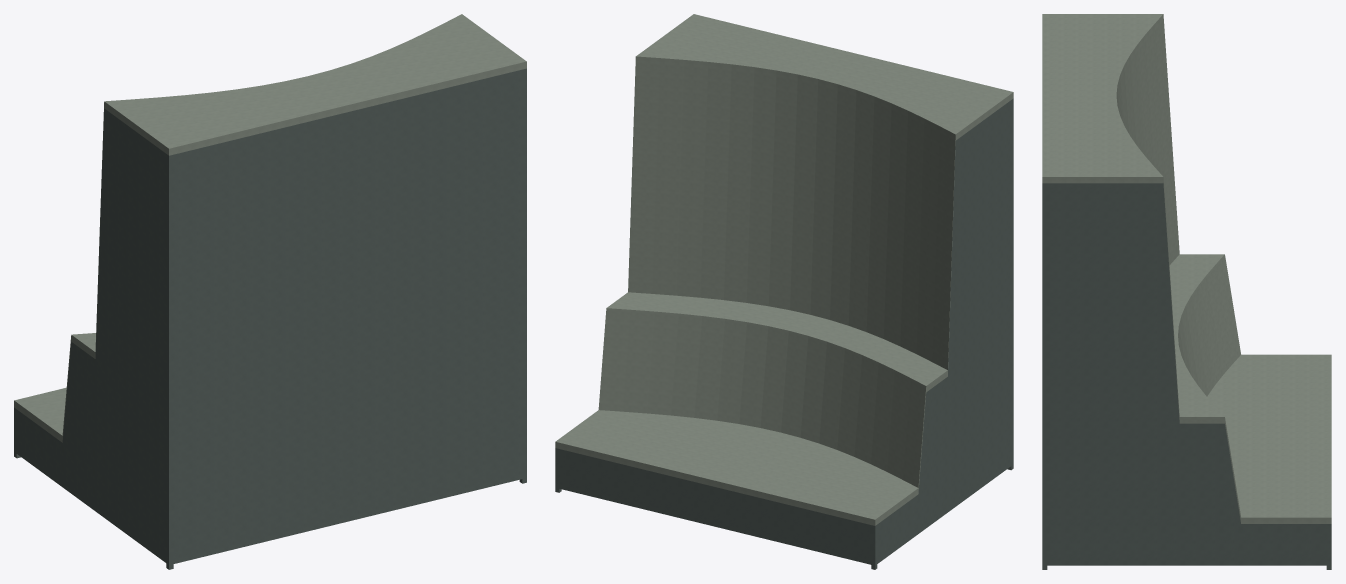
The picture shows the model from 3 angles, left to right: view 1: azimuth 30°, elevation 25°; view 2: azimuth 150°, elevation 25°; view 3: azimuth 270°, elevation 25°; orthographic projection. The views are drawn at different scales.
Parts seen in each view (by area): view 1: 崖壁内外转折与台阶边缘族; view 2: 崖壁内外转折与台阶边缘族; view 3: 崖壁内外转折与台阶边缘族.
Boxes of the visible parts, x1,y1,x2,y2 form: 崖壁内外转折与台阶边缘族: [14, 14, 526, 569]; 崖壁内外转折与台阶边缘族: [555, 14, 1013, 569]; 崖壁内外转折与台阶边缘族: [1042, 14, 1331, 569].
Size of the model in its own units: 16 by 18 by 12.
2 materials, 2 textured.
